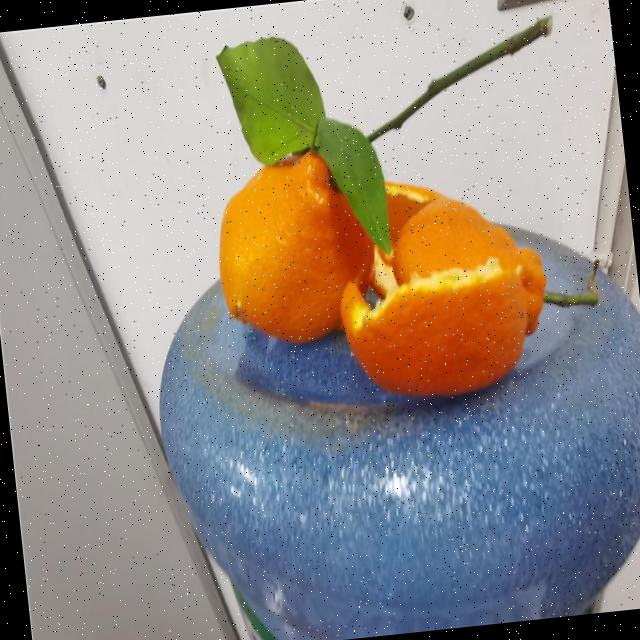orange-peel: (206, 142, 382, 350), (335, 252, 536, 406)
